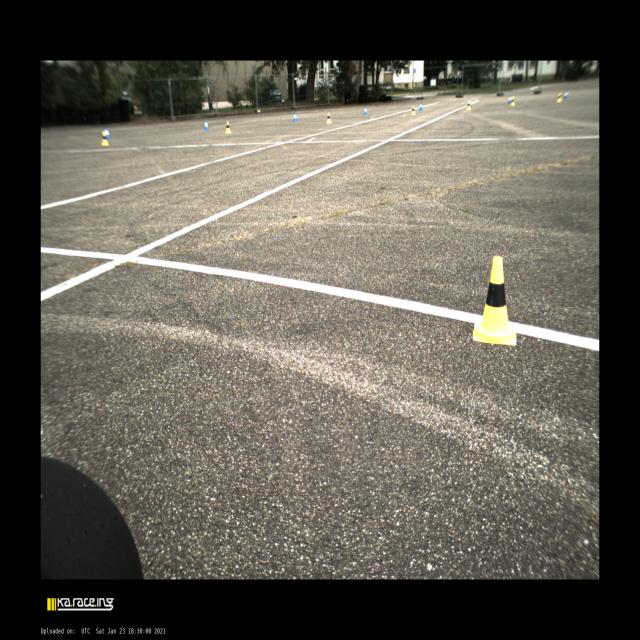blue_cone: (105, 128, 111, 139), (292, 112, 298, 122), (204, 120, 209, 130), (363, 106, 368, 115), (564, 91, 569, 99), (468, 97, 472, 106), (419, 102, 423, 110), (508, 95, 512, 103)
yellow_cone: (473, 256, 516, 344), (101, 131, 109, 145), (225, 120, 231, 134), (326, 112, 332, 124), (411, 105, 416, 115), (557, 93, 562, 102), (466, 101, 471, 110), (511, 97, 515, 106)
